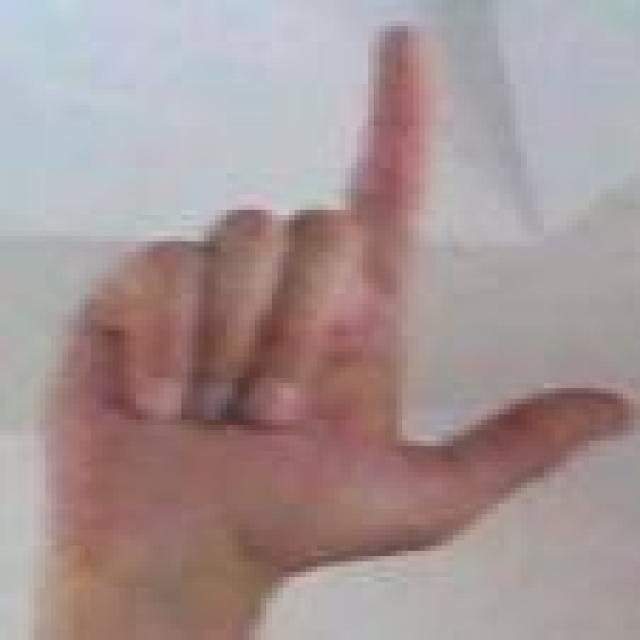L: (22, 12, 628, 607)
